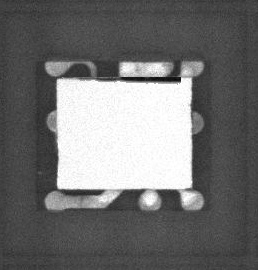DIE_BROKEN: (90, 73, 183, 85)
